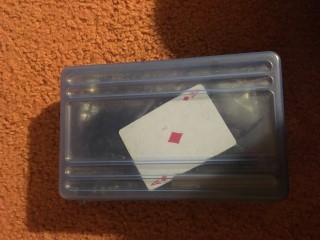AceOfDiamonds: (118, 84, 237, 190)
